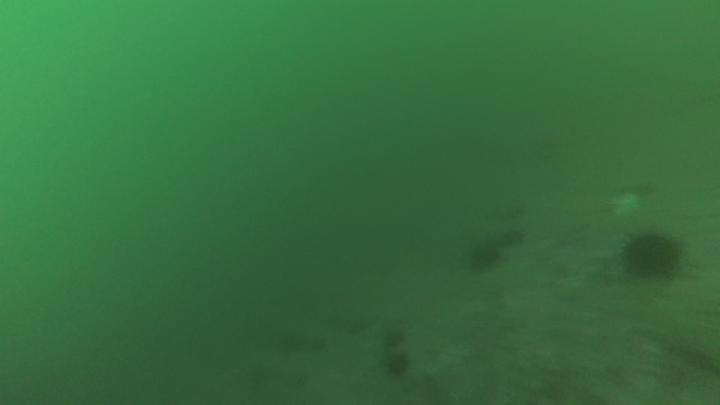echinus: (626, 234, 682, 281), (473, 243, 500, 272), (497, 231, 522, 249), (388, 354, 409, 375), (382, 328, 402, 346)
